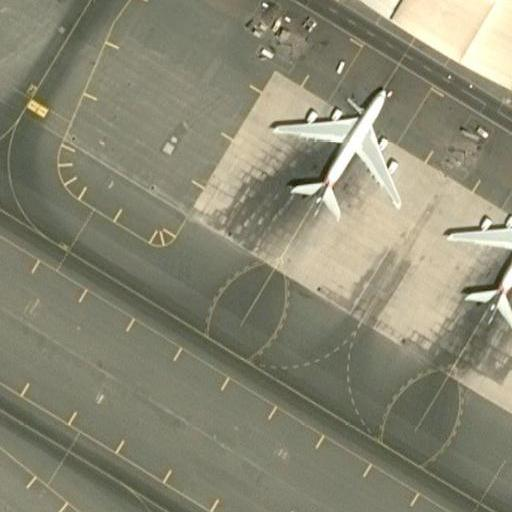Aircraft: (267, 85, 402, 218), (443, 207, 510, 329)
